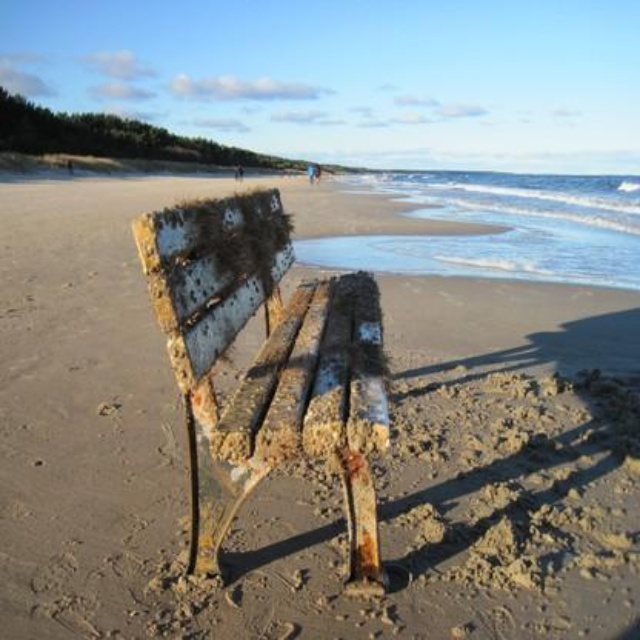obstacle: (129, 169, 400, 597)
